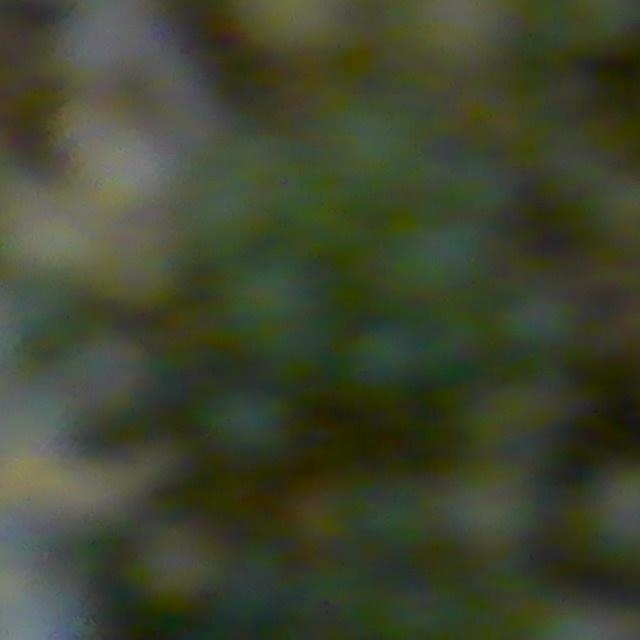SeaGrape: (441, 457, 543, 554), (398, 214, 489, 301), (205, 381, 293, 463), (346, 316, 431, 397), (0, 381, 70, 459), (0, 580, 77, 640)
